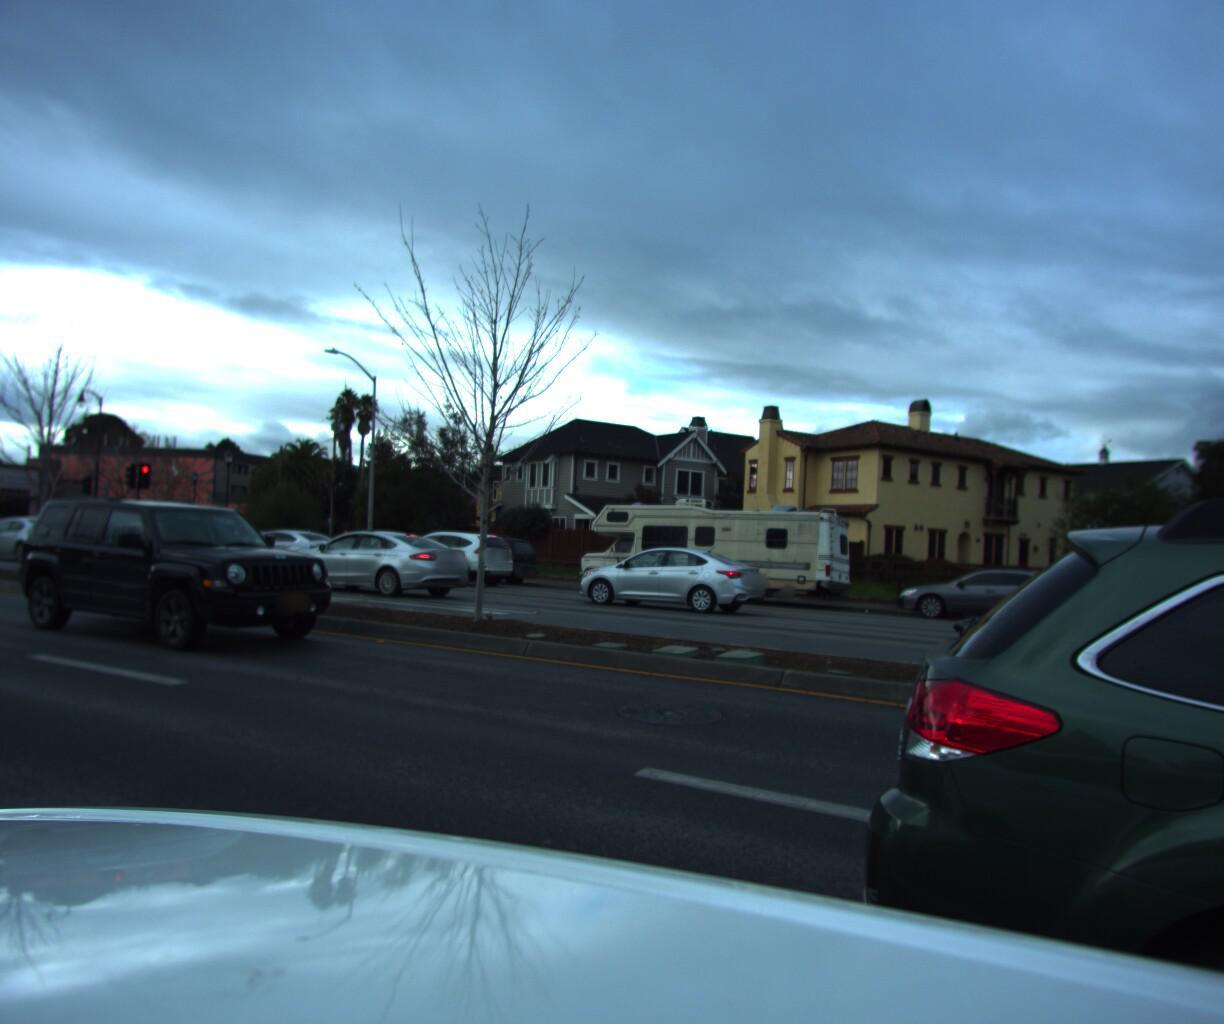car: (1, 481, 367, 660), (563, 538, 777, 626), (274, 516, 486, 601), (888, 555, 1096, 629), (372, 521, 521, 586), (415, 526, 546, 579), (229, 519, 353, 570)
other_vehicle: (568, 487, 855, 608)
